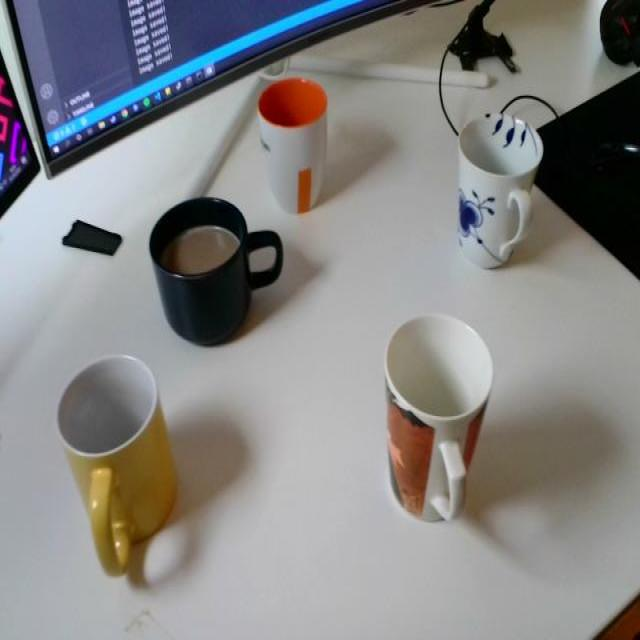cup: (373, 290, 512, 550), (47, 342, 182, 580), (146, 175, 288, 363), (443, 70, 555, 273), (246, 48, 350, 225)
